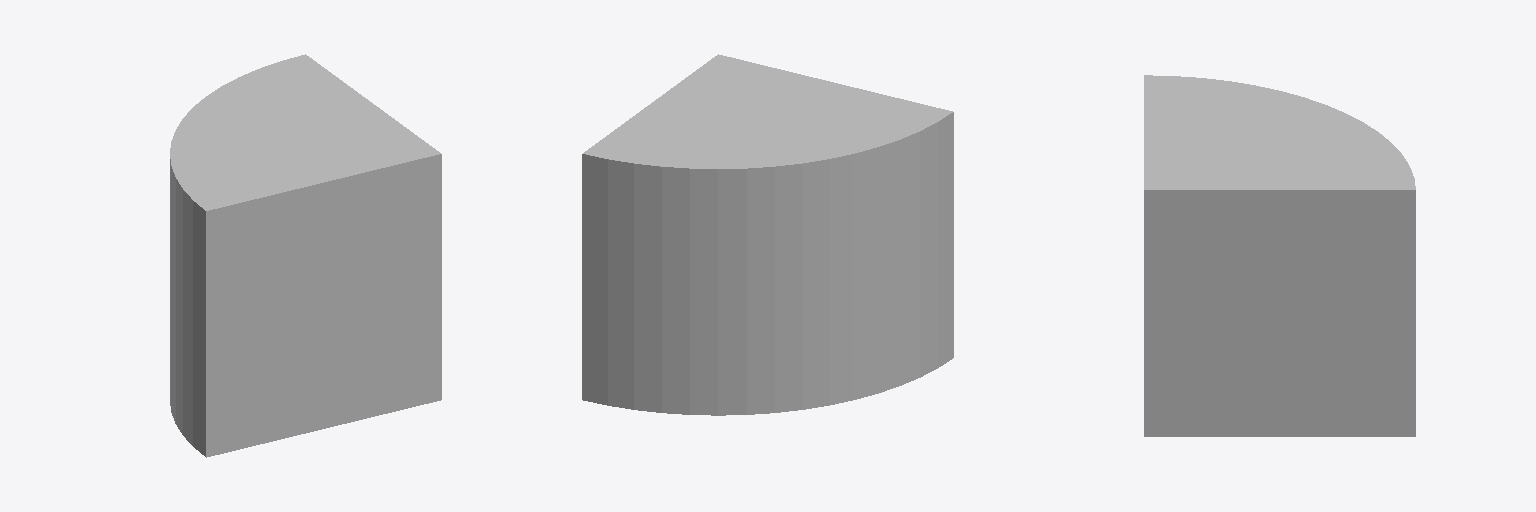
File: cis.obj
3 renders of one model, left to right at view 1: azimuth 30°, elevation 25°; view 2: azimuth 150°, elevation 25°; view 3: azimuth 270°, elevation 25°, orthographic.
Bounding box in the file's own units: 1 × 1 × 1.